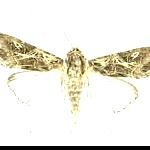Spodoptera litura: (1, 14, 149, 124)
